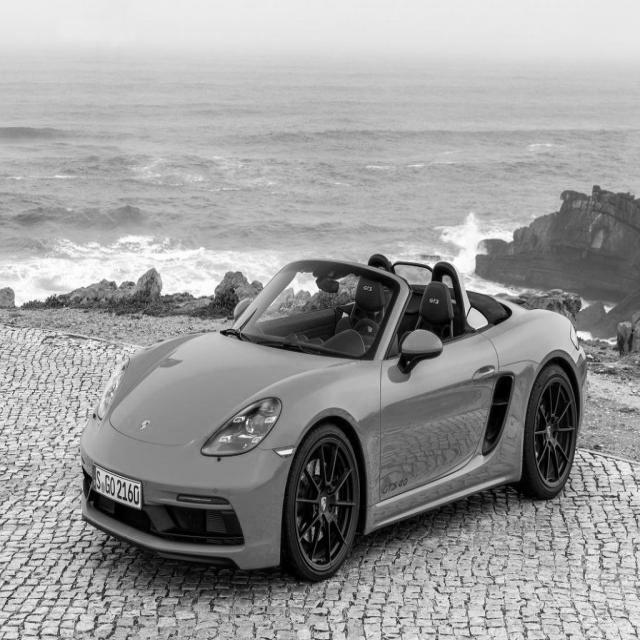Sedan: (80, 256, 588, 585)
